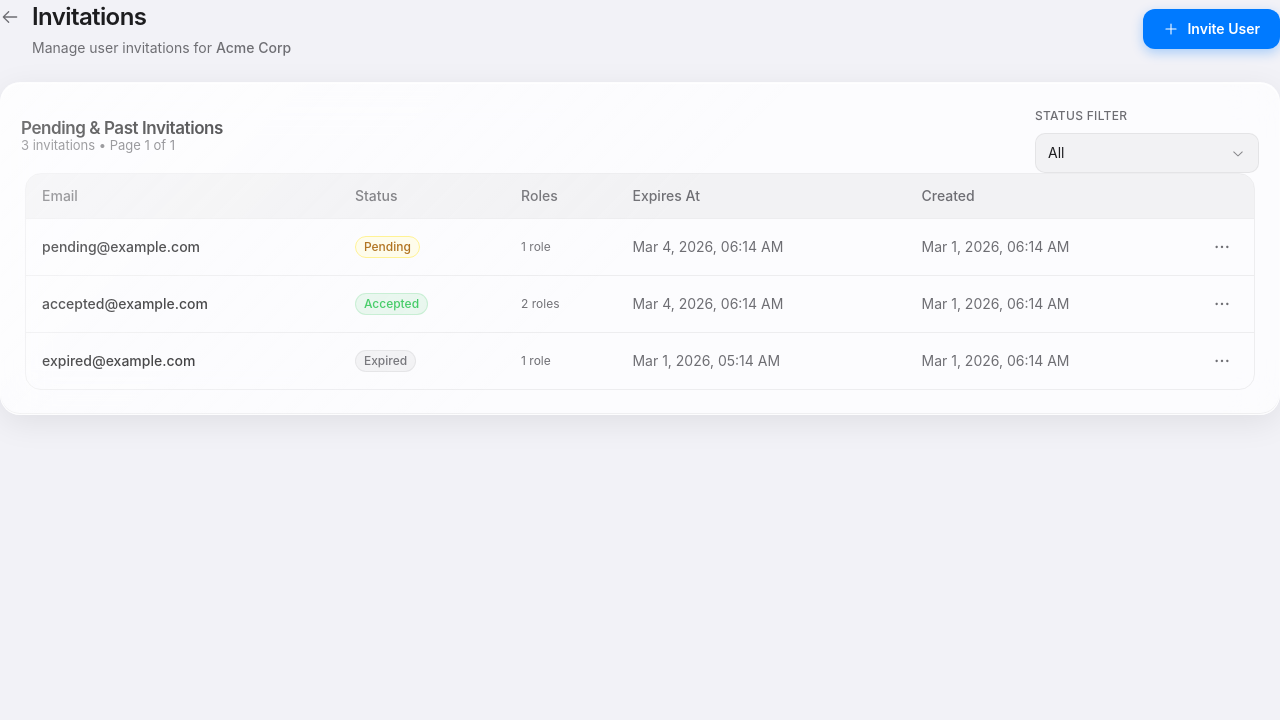
Scenario: Invitations Page › component interactions › opens the invite user dialog when clicking the Invite User button
Click the button "Invite User".
click(1212, 29)  # box [1144,9,1279,49]
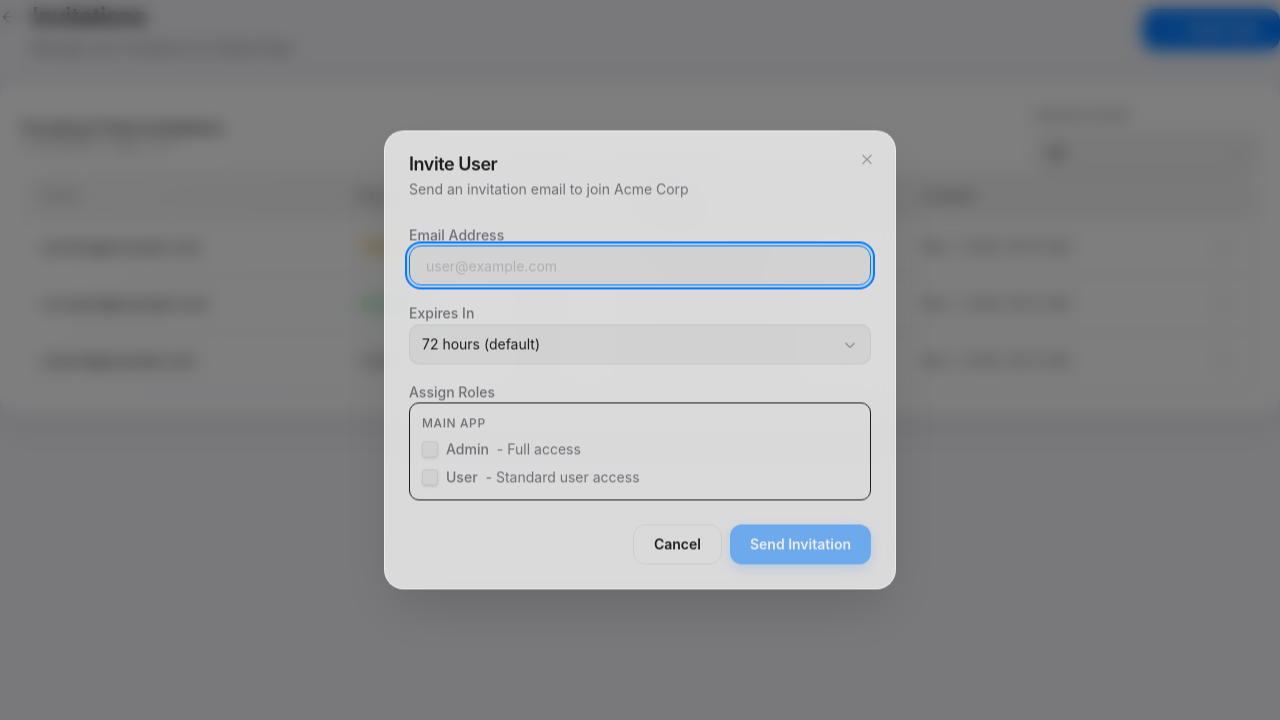
expect the dialog is shown: met, box [384,130,896,590]
expect the text "Send an invitation email to join Acme Corp" is shown: met, box [409,180,689,197]
expect the field labelled "Email Address" is shown: met, box [409,246,871,286]
